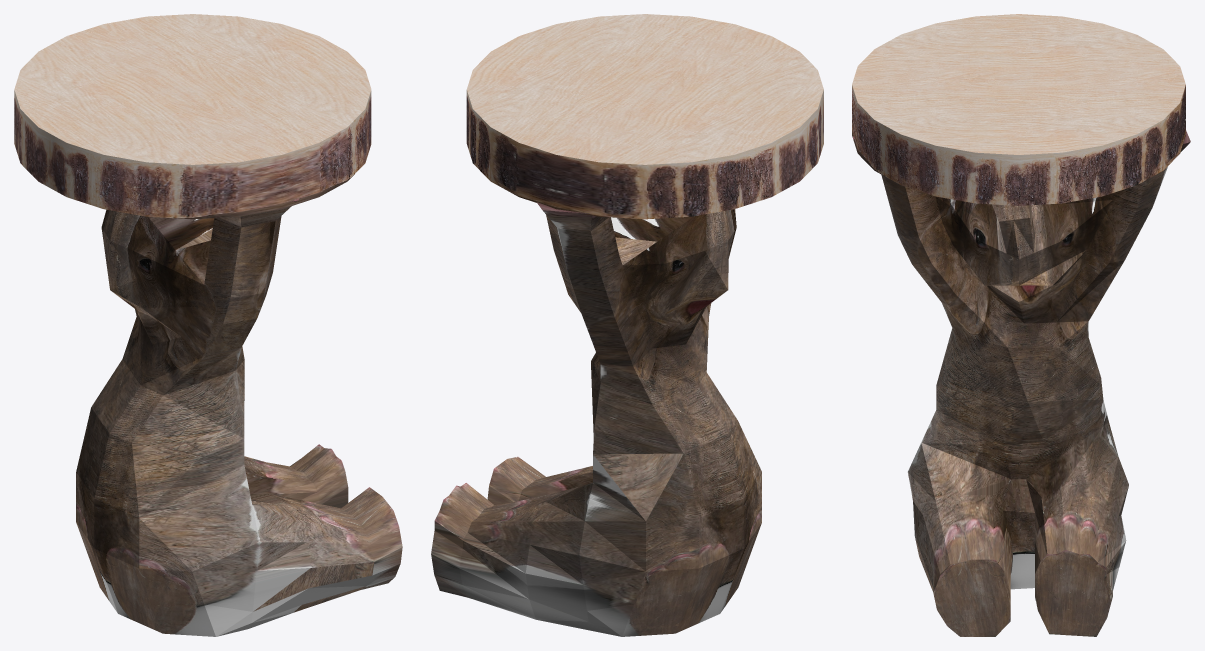
The model's file is KARE+78893+Beistelltisch+Elefant.fbx.
The picture shows the model from 3 angles, left to right: view 1: azimuth 30°, elevation 25°; view 2: azimuth 150°, elevation 25°; view 3: azimuth 270°, elevation 25°; orthographic projection. The views are drawn at different scales.
Visible parts, largest first — view 1: Component_3_1, Component_4_1; view 2: Component_3_1, Component_4_1; view 3: Component_3_1, Component_4_1.
Boxes of the visible parts, box(x1,y1,x2,y2) form: Component_3_1: box(76, 199, 402, 636); Component_4_1: box(14, 14, 371, 219); Component_3_1: box(431, 202, 761, 636); Component_4_1: box(466, 14, 823, 219); Component_3_1: box(853, 130, 1190, 636); Component_4_1: box(852, 14, 1185, 205).
Bounding box in the file's own units: 34.59 × 53 × 34.09.
